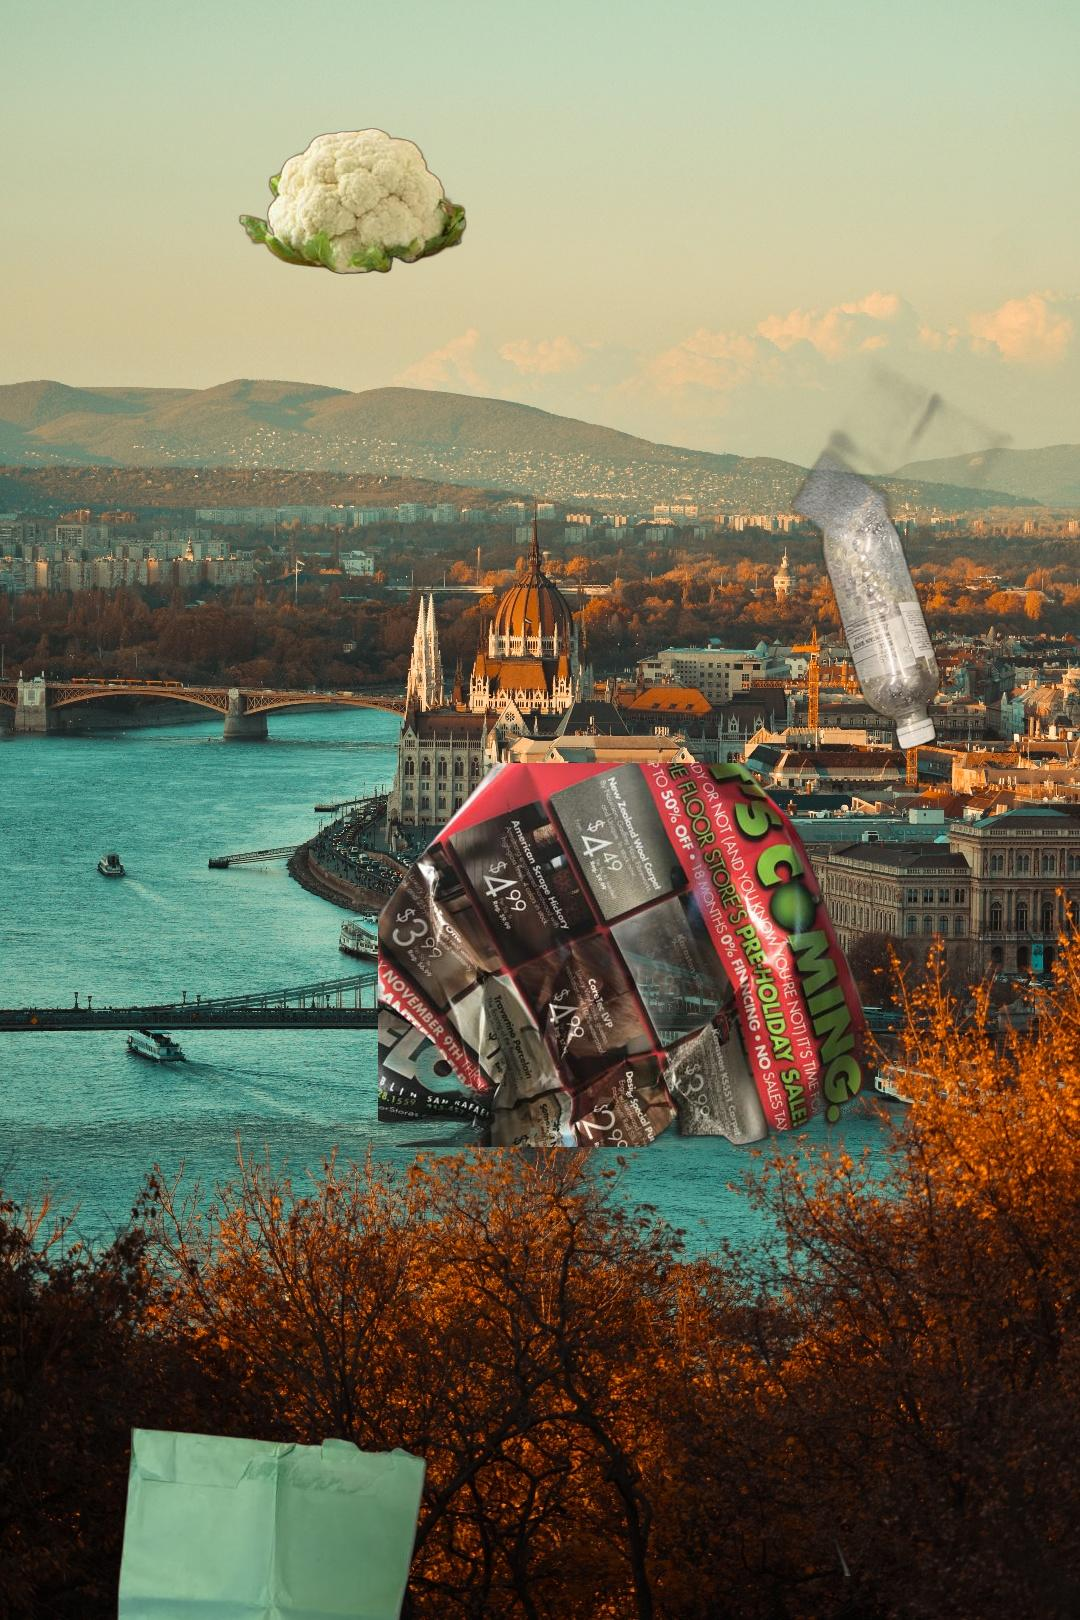biological: (237, 127, 468, 277)
paper: (378, 763, 890, 1147), (409, 1305, 857, 1575), (102, 1426, 432, 1620)
plastic-bottles: (783, 253, 1068, 755)
trashbox-cardboard: (1061, 664, 1080, 1620)
